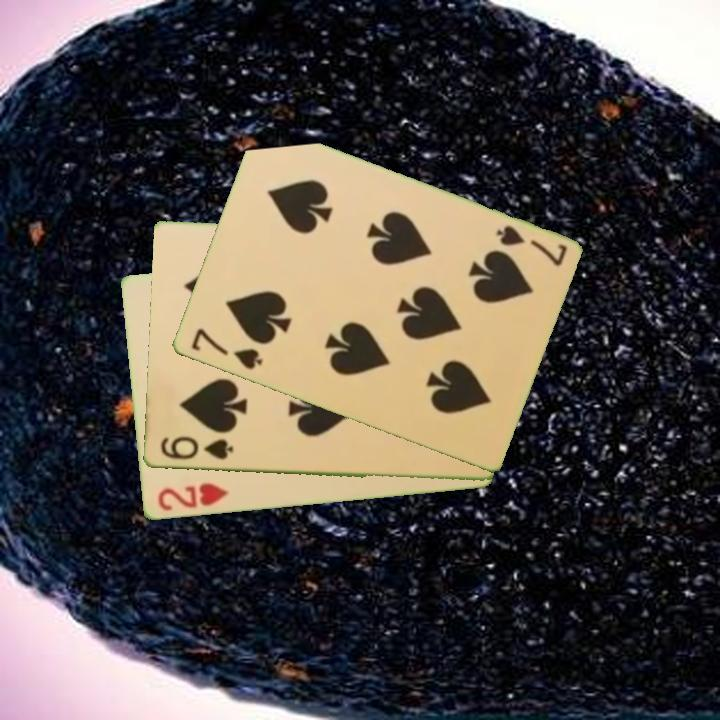2h: (154, 480, 230, 515)
6s: (156, 433, 235, 463)
7s: (187, 324, 265, 373), (492, 221, 570, 270)
